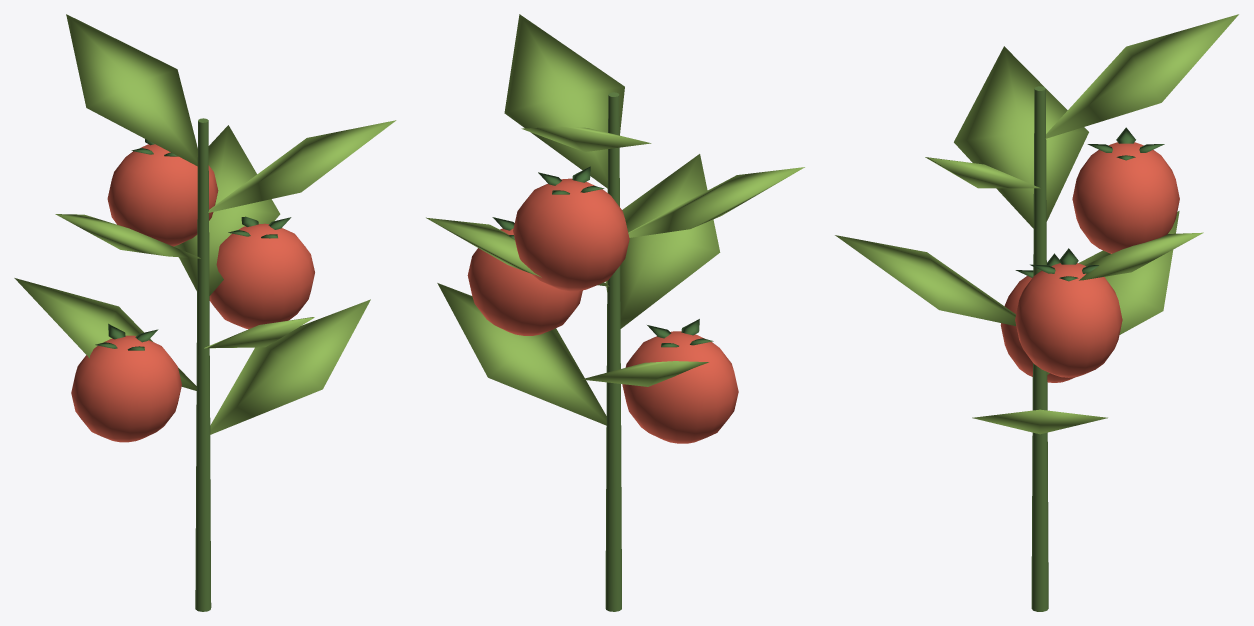
The model's file is crop_4_stage_3.fbx.
3 renders of one model, left to right at view 1: azimuth 30°, elevation 25°; view 2: azimuth 150°, elevation 25°; view 3: azimuth 270°, elevation 25°, orthographic. The views are drawn at different scales.
Visible parts, largest first — view 1: crop_4_stage_3; view 2: crop_4_stage_3; view 3: crop_4_stage_3.
Part boxes in pixels (x1=…): crop_4_stage_3: x1=14, y1=14, x2=396, y2=611; crop_4_stage_3: x1=426, y1=14, x2=804, y2=611; crop_4_stage_3: x1=835, y1=14, x2=1238, y2=611.
Size of the model in its own units: 0.5846 by 0.9 by 0.5778.
1 material, 1 textured.
